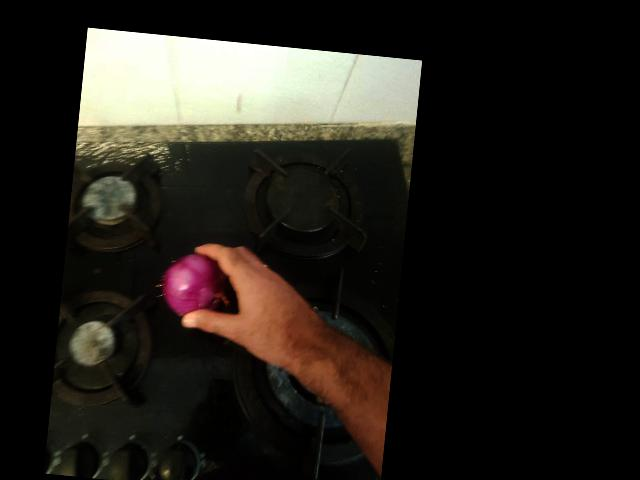onion: (168, 249, 230, 317)
